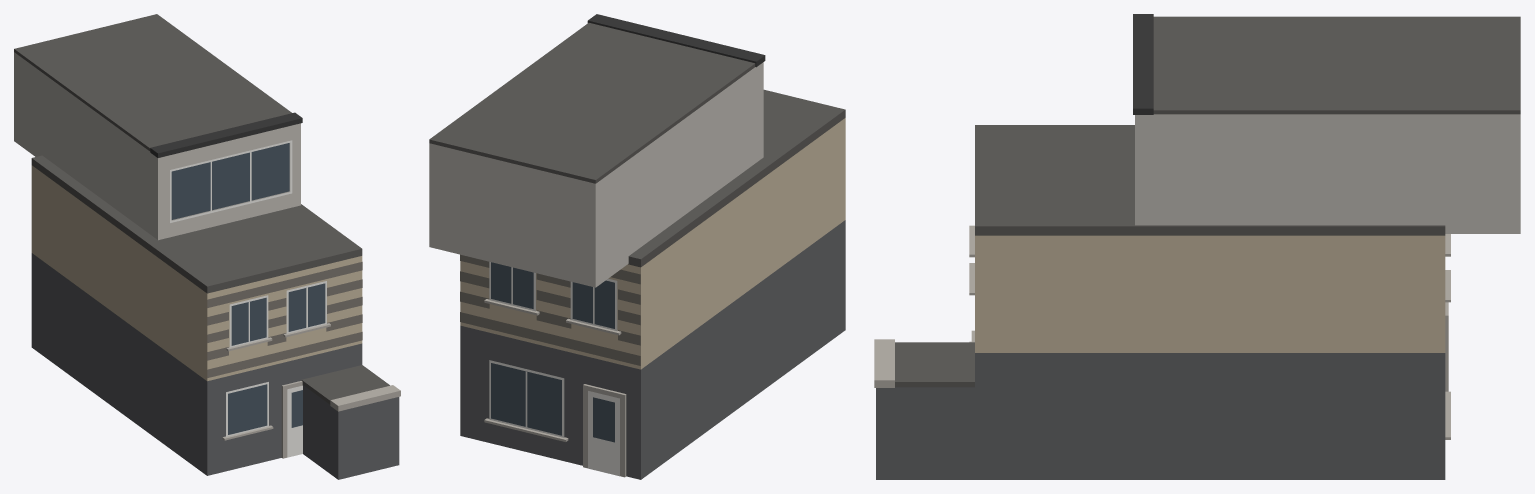
Rendered from nd-tw-flat-top__striped-box__2__flat__long__solid__mirror.glb.
The picture shows the model from 3 angles, left to right: view 1: azimuth 30°, elevation 25°; view 2: azimuth 150°, elevation 25°; view 3: azimuth 270°, elevation 25°; orthographic projection. The views are drawn at different scales.
Parts seen in each view (by area): view 1: nd-tw-flat-top__striped-box__2__flat__long__solid__mirror; view 2: nd-tw-flat-top__striped-box__2__flat__long__solid__mirror; view 3: nd-tw-flat-top__striped-box__2__flat__long__solid__mirror.
Boxes of the visible parts, x1,y1,x2,y2 form: nd-tw-flat-top__striped-box__2__flat__long__solid__mirror: (14, 14, 400, 479); nd-tw-flat-top__striped-box__2__flat__long__solid__mirror: (429, 14, 845, 479); nd-tw-flat-top__striped-box__2__flat__long__solid__mirror: (874, 14, 1520, 479).
Bounding box in the file's own units: 5.13 × 8.7 × 13.74.
